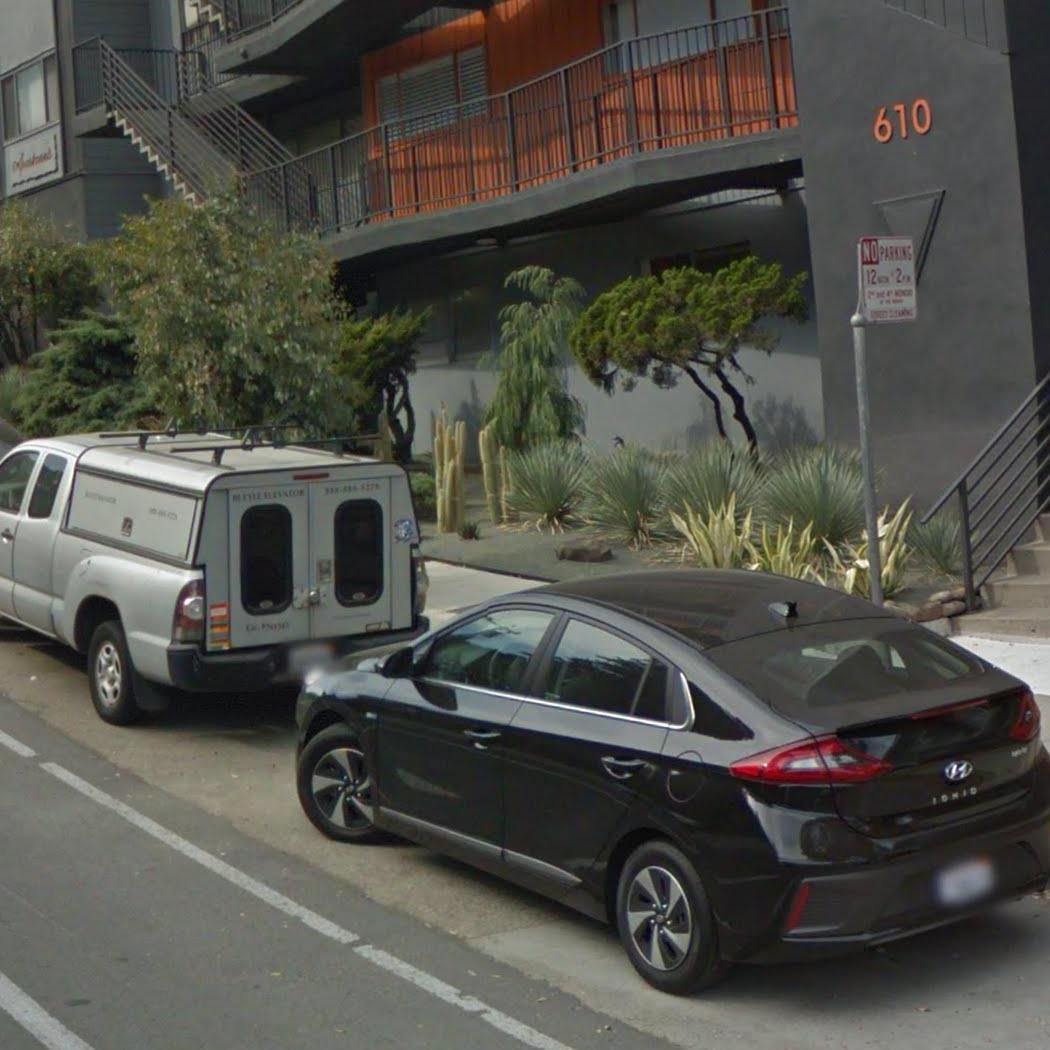No Parking: (854, 234, 921, 325)
